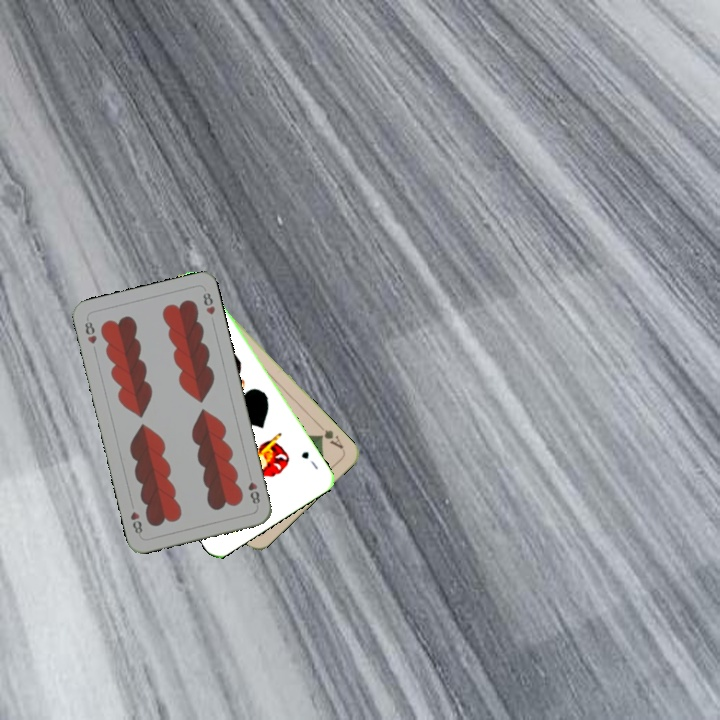GA: (314, 420, 346, 452)
GU: (297, 447, 321, 472)
H8: (81, 315, 99, 347), (244, 478, 262, 507)
